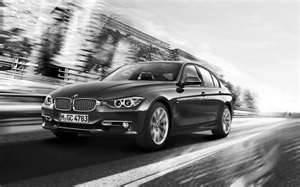car: (39, 47, 238, 155)
